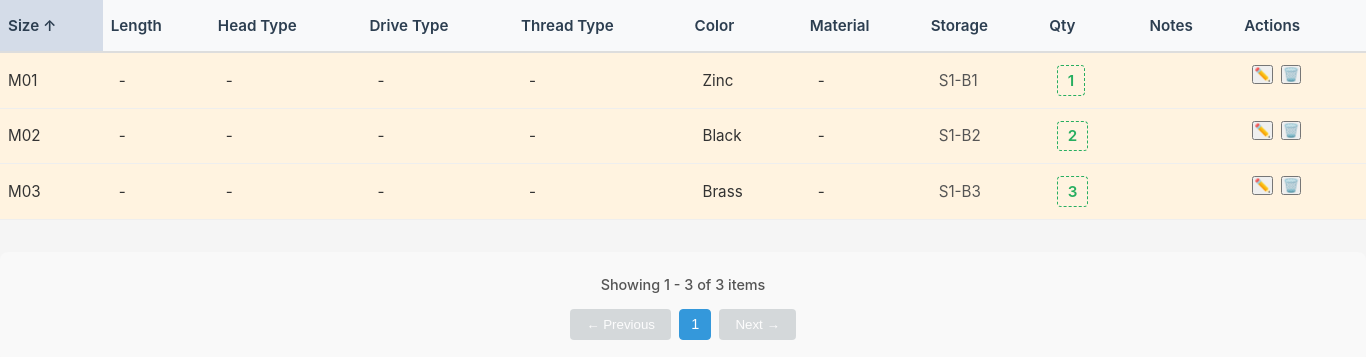
Test: sorting › sorts by another column when it is clicked, starting ascending
Click the column heading with class "sortable" showing "Color": (714, 26) left=686, top=0, right=802, bottom=52
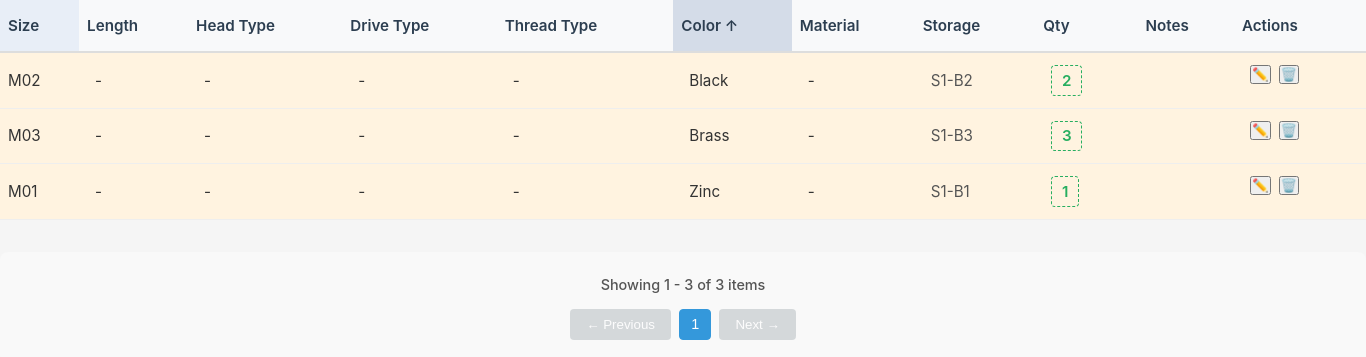
Now the column heading "Color ↑" is shown, box left=673, top=0, right=792, bottom=52
Now the elements with class "color" read "Black", "Brass", "Zinc", in this order, box left=673, top=52, right=792, bottom=108; left=673, top=108, right=792, bottom=164; left=673, top=164, right=792, bottom=219
